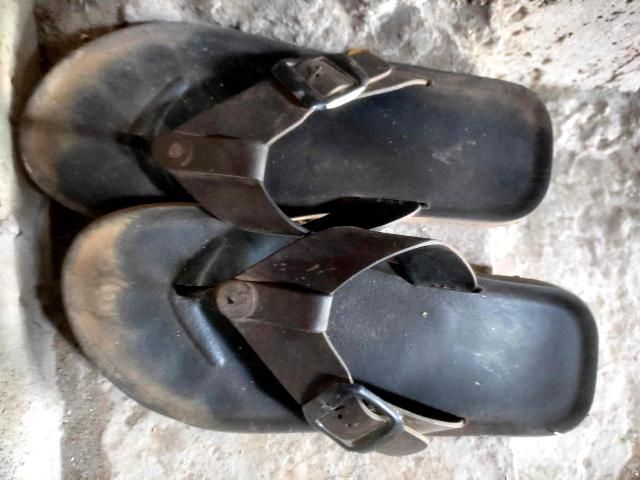sandal: (52, 232, 596, 461), (23, 24, 554, 255)
